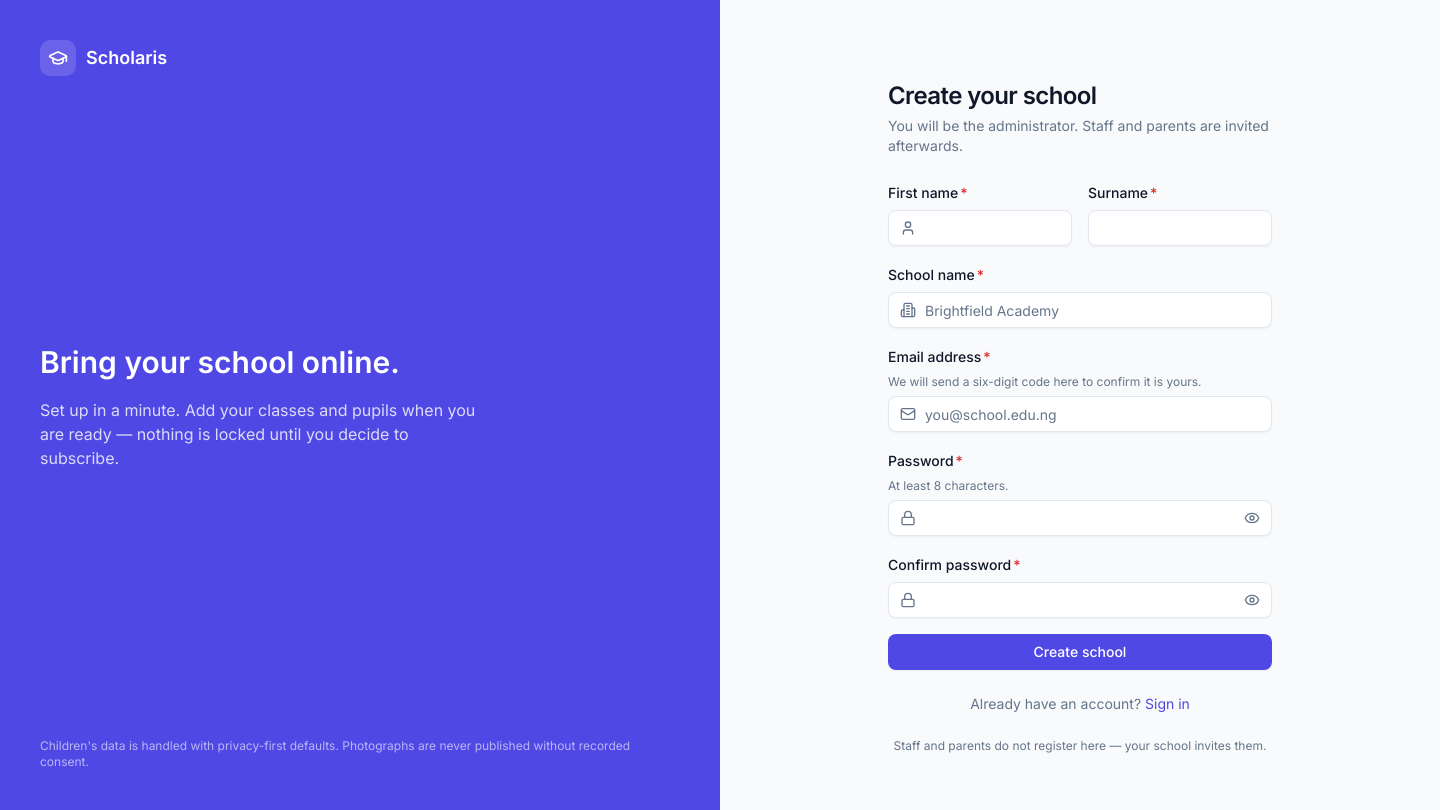
Scenario: SignUpPage › rejects a password of one repeated character
Type "Ngozi" into the field labelled "First name*" at (980, 228), box [888,210,1072,246]
Type "Adeleke" into the field labelled "Surname*" at (1180, 228), box [1088,210,1272,246]
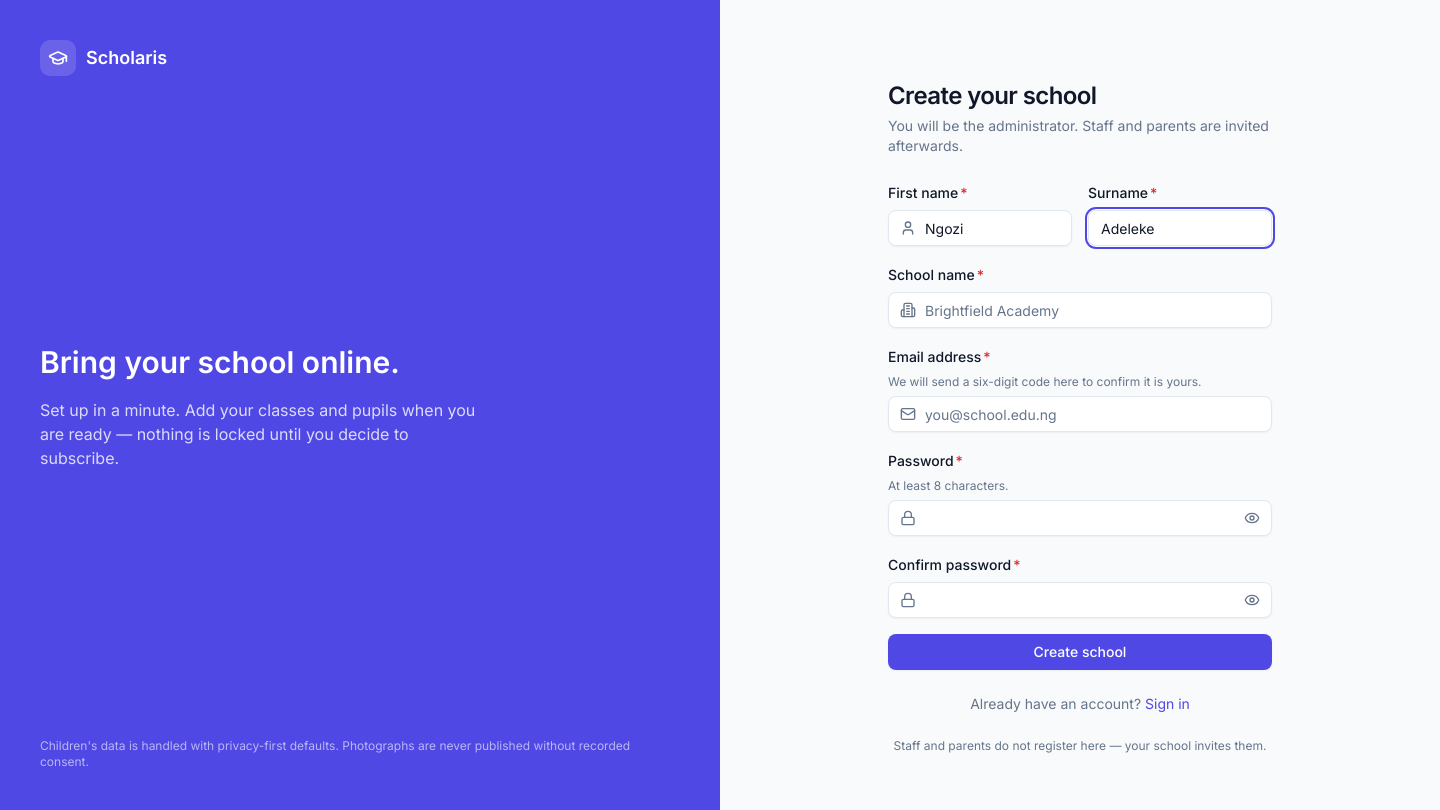
Type "Harmony International College" into the field labelled "School name*" at (1080, 310), box [888,292,1272,328]
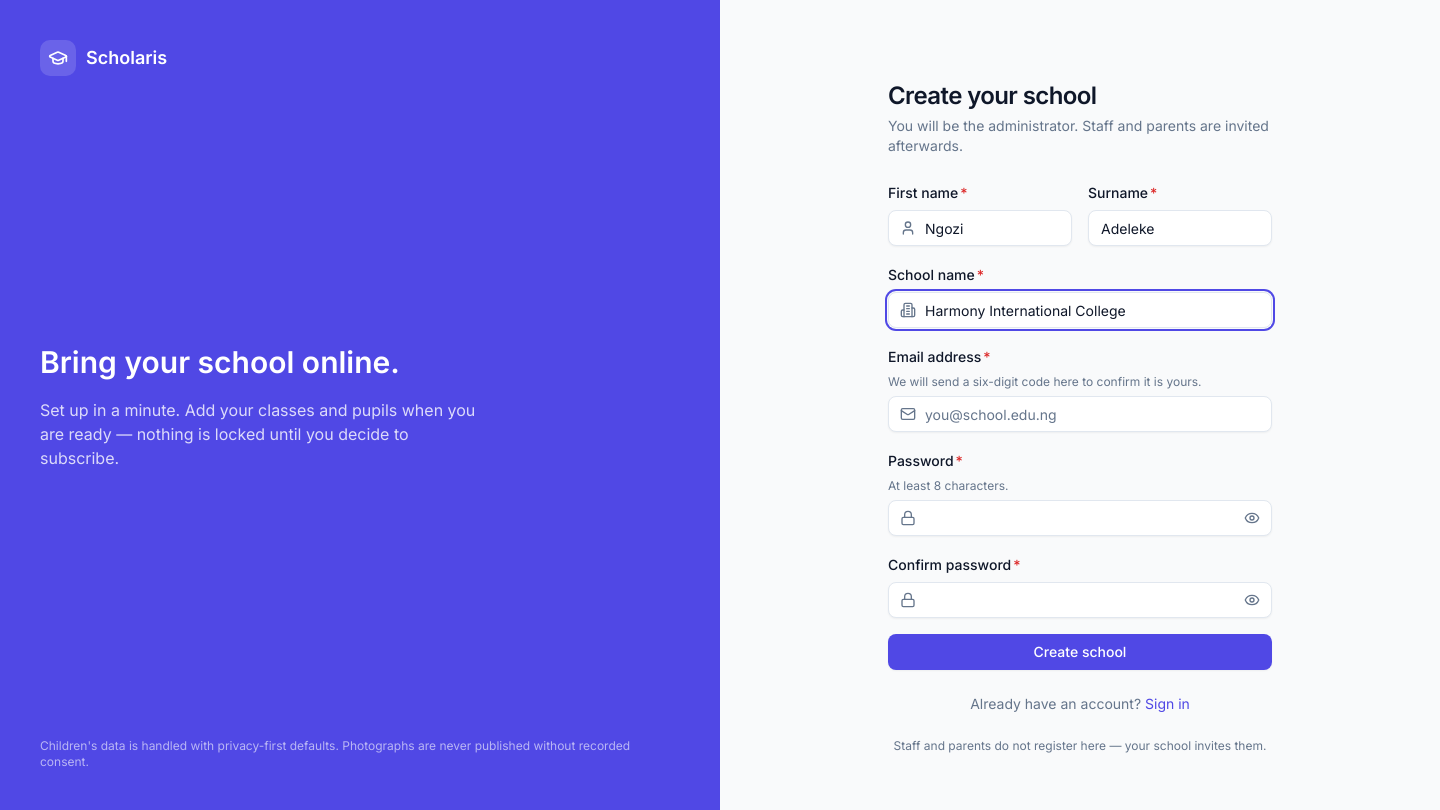
Type "ngozi@harmony.edu.ng" into the field labelled "Email address*" at (1080, 414), box [888,396,1272,432]
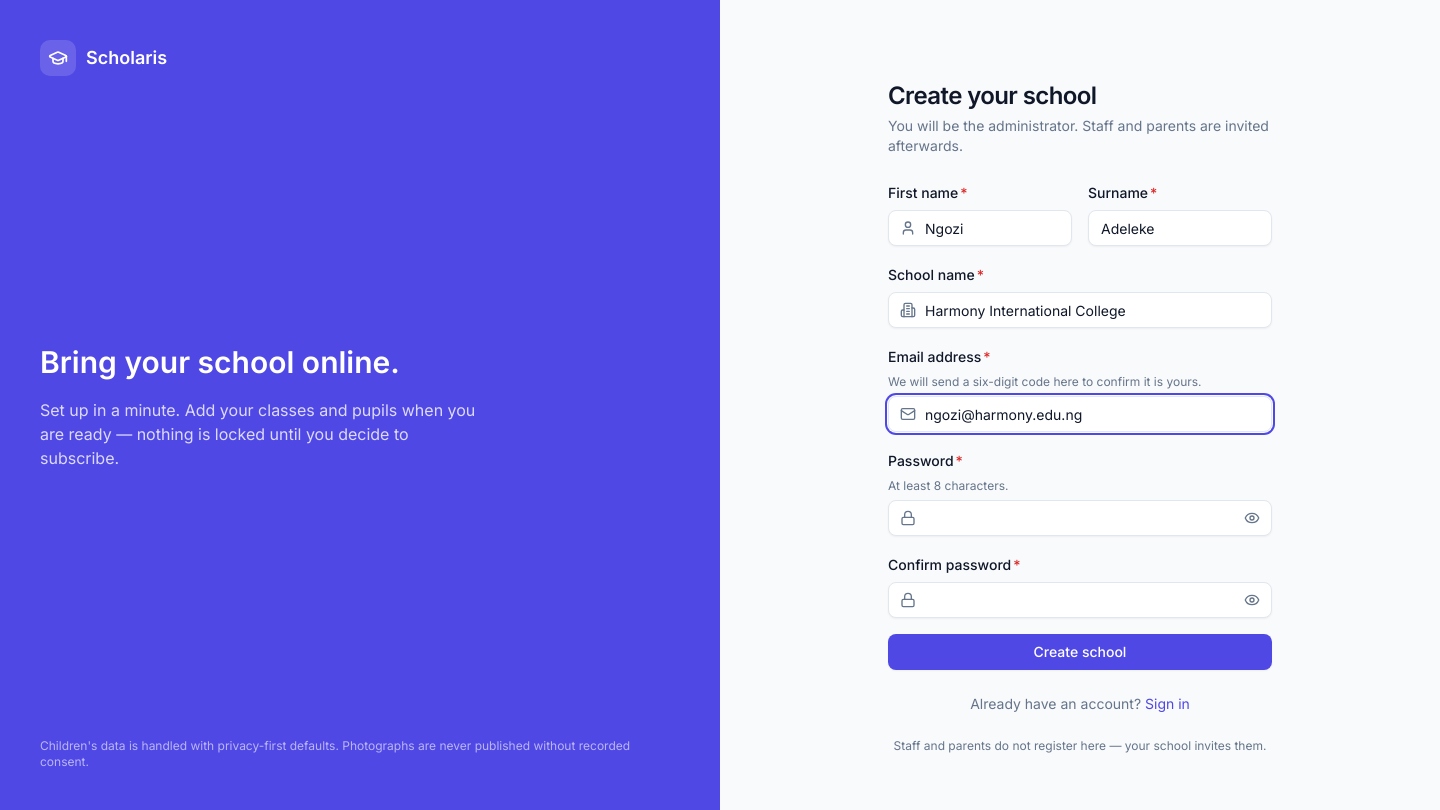
Type "aaaaaaaaaa" into the password field labelled "Password*" at (1080, 518), box [888,500,1272,536]
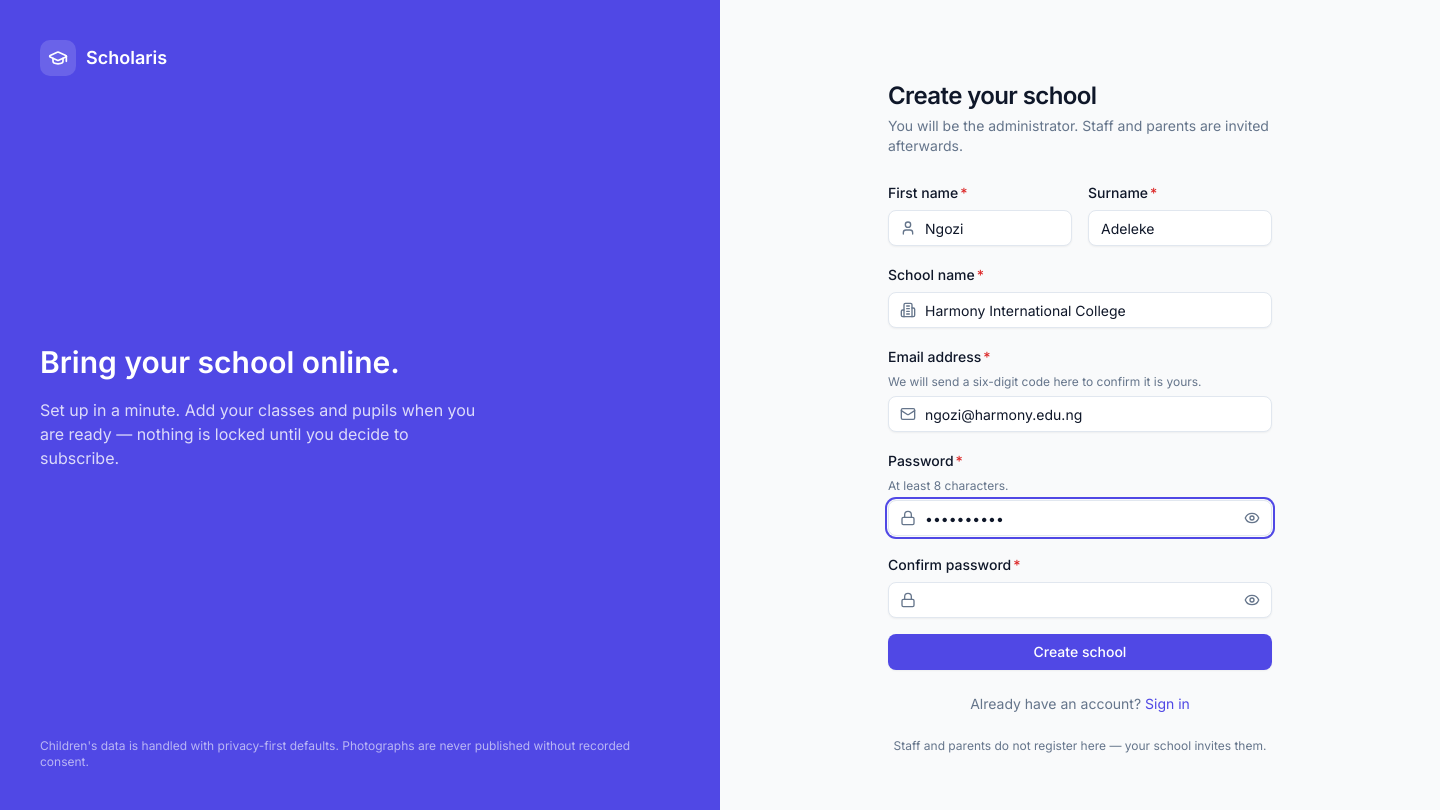
Type "aaaaaaaaaa" into the password field labelled "Confirm password*" at (1080, 600), box [888,582,1272,618]
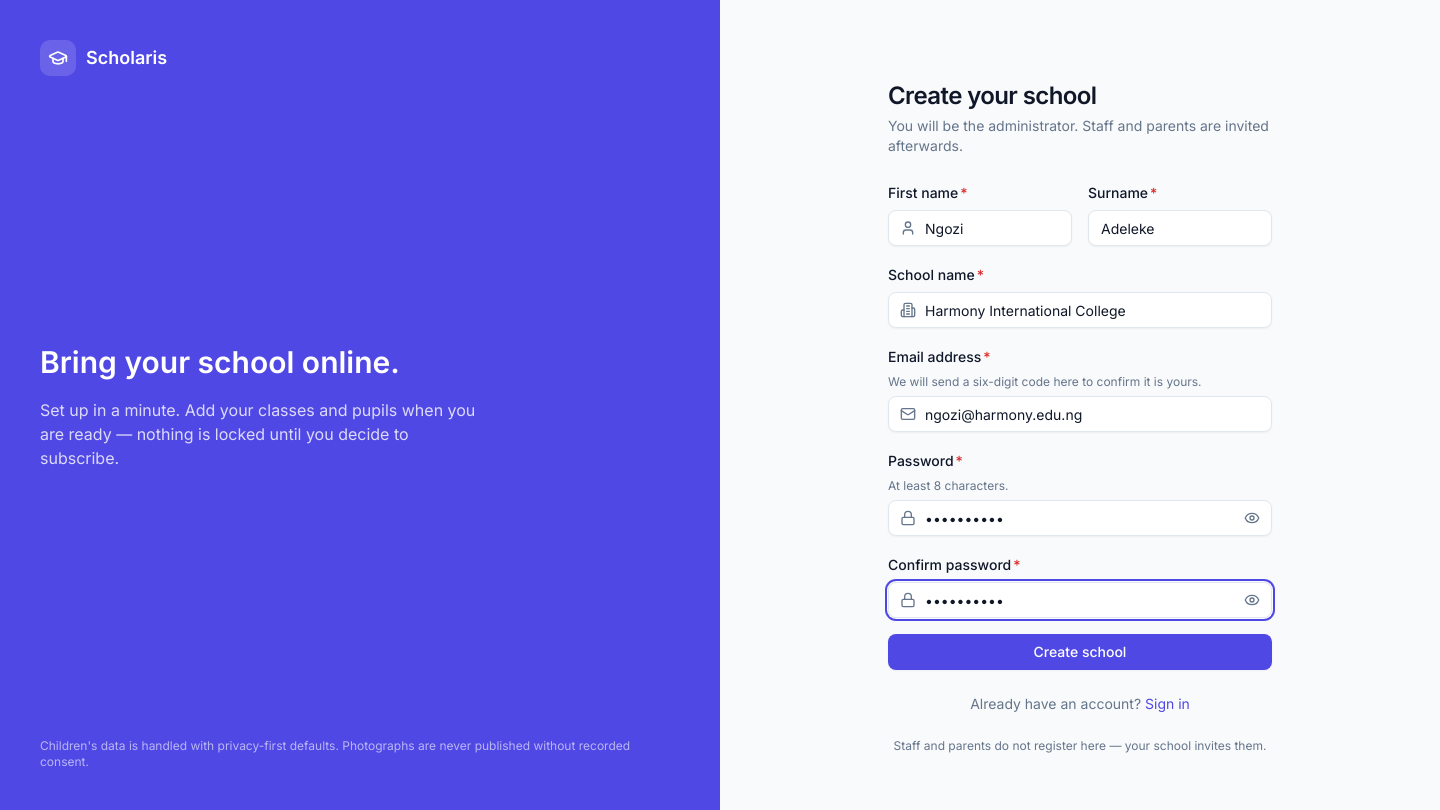
Click the button "Create school" at (1080, 652), box [888,634,1272,670]
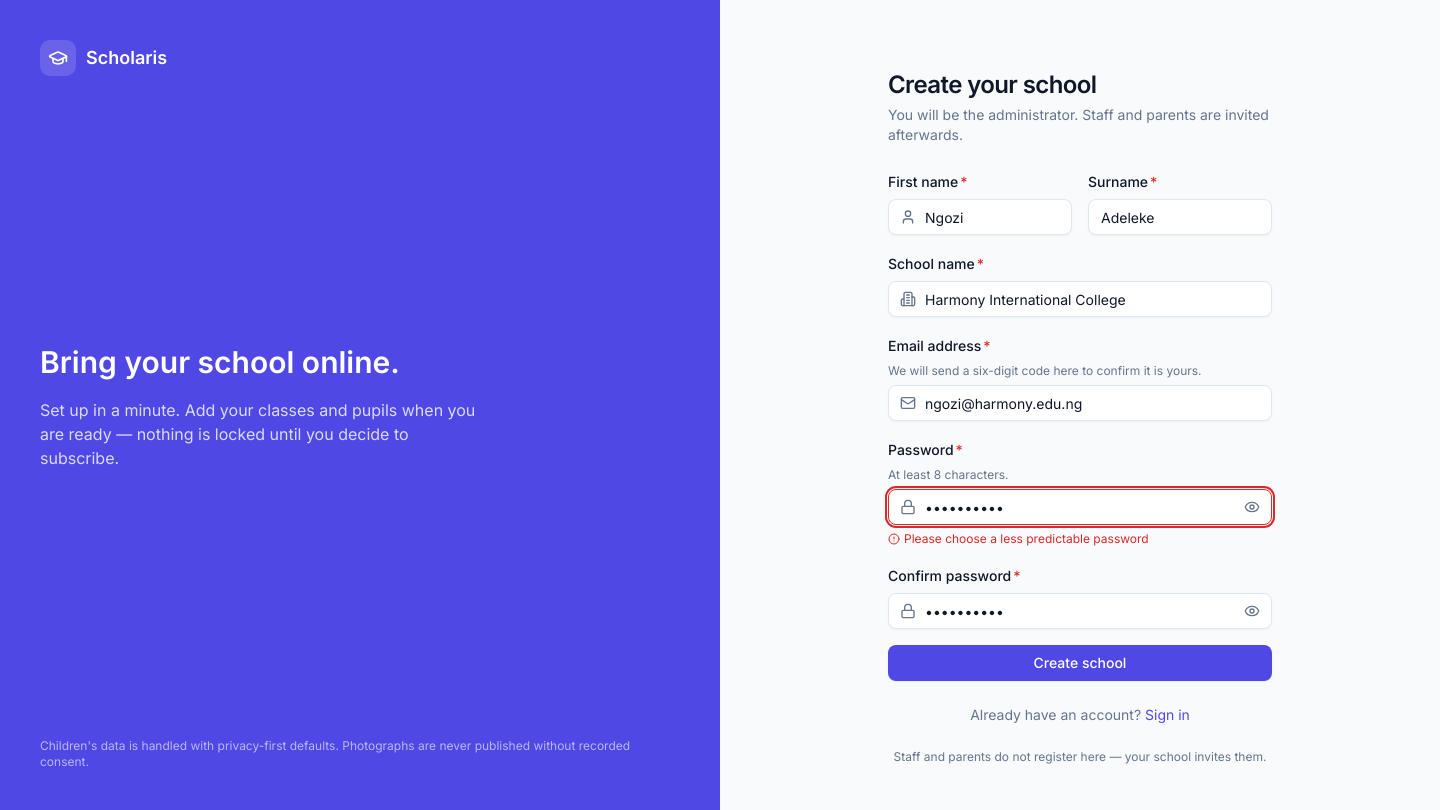
Now the text "Please choose a less predictable password" is shown, box [888,531,1149,546]
